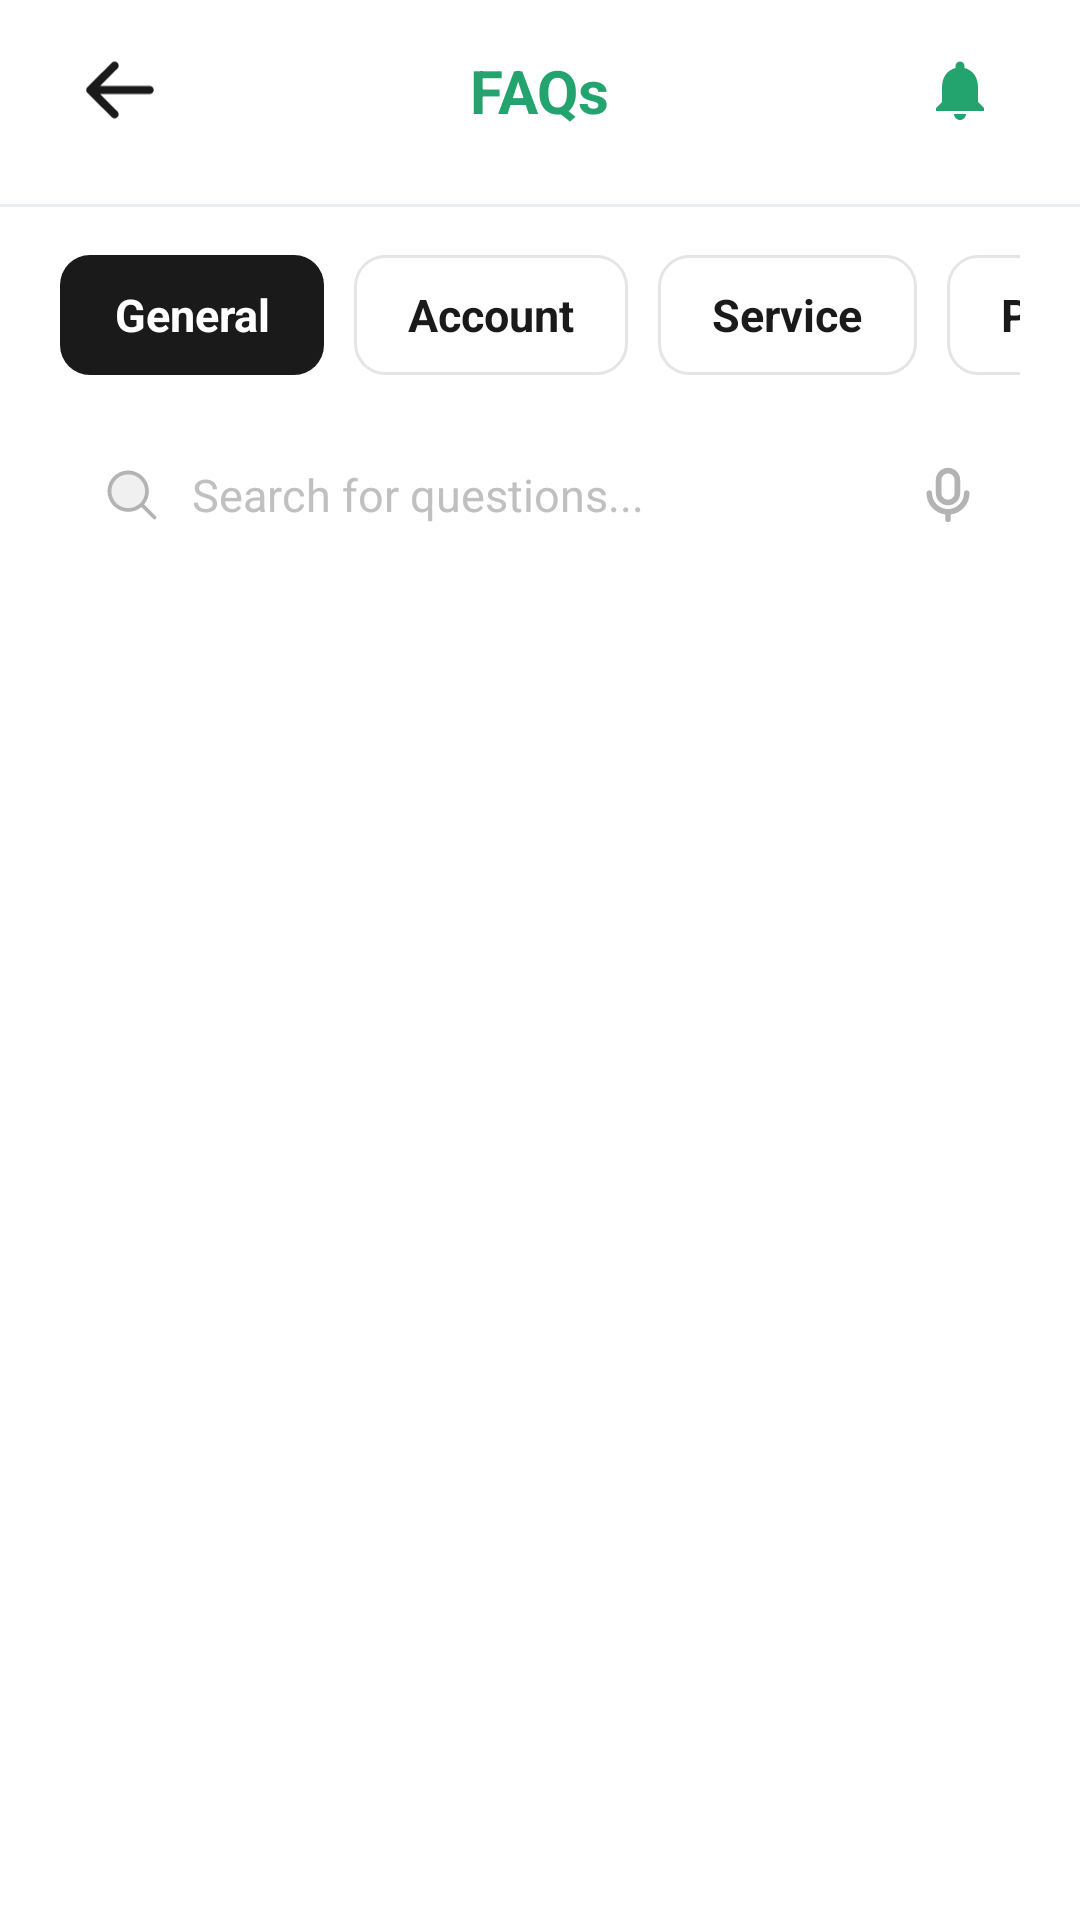

Named icons in this screenshot (1080 x 1920) and their centers, (x=x, y=y):
Back: (x=120, y=90)
mic: (x=948, y=495)
Open notifications: (x=960, y=90)
